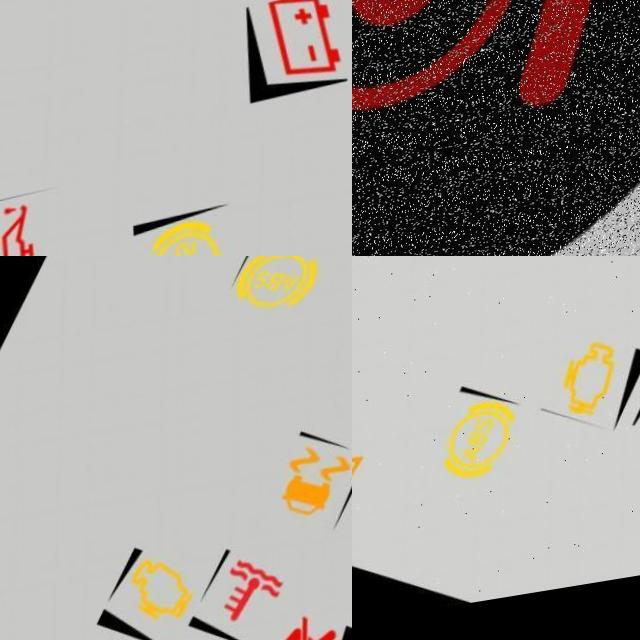Electronic Power Steering: (352, 0, 640, 192)
